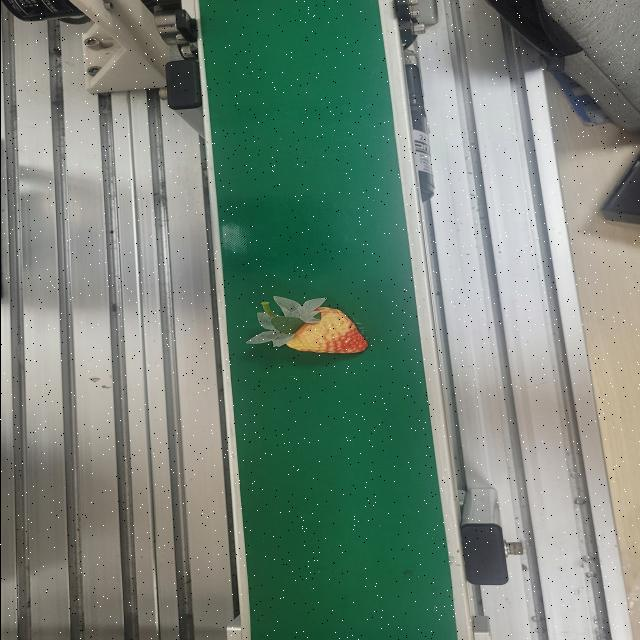Small Unripe Strawberry: (247, 298, 371, 356)
